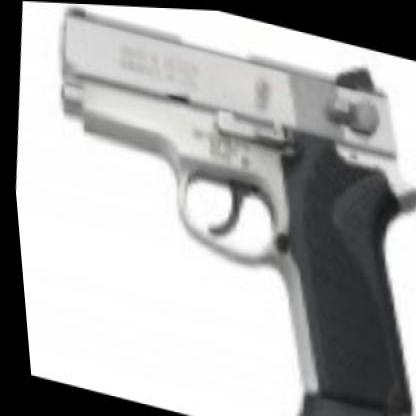pistol: (19, 0, 415, 415)
